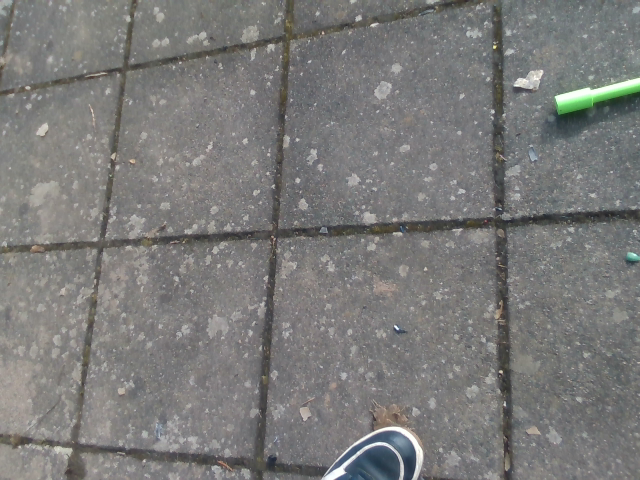Probe: (550, 69, 640, 124)
